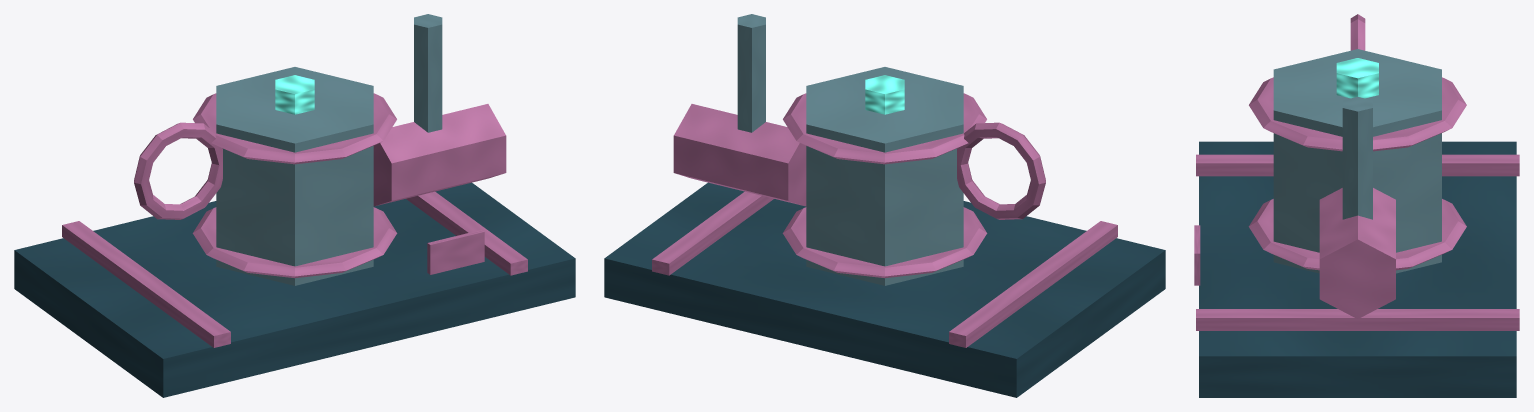
File: atlas100-s064-a02.lod1.glb
3 renders of one model, left to right at view 1: azimuth 30°, elevation 25°; view 2: azimuth 150°, elevation 25°; view 3: azimuth 270°, elevation 25°, orthographic. The views are drawn at different scales.
Visible parts, largest first — view 1: atlas100-s064-a02:part-000, atlas100-s064-a02:part-003, atlas100-s064-a02:part-007, atlas100-s064-a02:part-001, atlas100-s064-a02:part-004, atlas100-s064-a02:part-005, atlas100-s064-a02:part-009, atlas100-s064-a02:part-008, atlas100-s064-a02:part-002, atlas100-s064-a02:part-010, atlas100-s064-a02:part-006; view 2: atlas100-s064-a02:part-000, atlas100-s064-a02:part-003, atlas100-s064-a02:part-007, atlas100-s064-a02:part-001, atlas100-s064-a02:part-004, atlas100-s064-a02:part-005, atlas100-s064-a02:part-009, atlas100-s064-a02:part-008, atlas100-s064-a02:part-002, atlas100-s064-a02:part-006; view 3: atlas100-s064-a02:part-000, atlas100-s064-a02:part-003, atlas100-s064-a02:part-007, atlas100-s064-a02:part-002, atlas100-s064-a02:part-005, atlas100-s064-a02:part-008, atlas100-s064-a02:part-001, atlas100-s064-a02:part-004, atlas100-s064-a02:part-006, atlas100-s064-a02:part-009, atlas100-s064-a02:part-010.
Part boxes in pixels (left/top/right/bottom): atlas100-s064-a02:part-000: left=14, top=182, right=575, bottom=397; atlas100-s064-a02:part-003: left=216, top=67, right=373, bottom=285; atlas100-s064-a02:part-007: left=373, top=104, right=506, bottom=206; atlas100-s064-a02:part-001: left=62, top=221, right=230, bottom=347; atlas100-s064-a02:part-004: left=192, top=207, right=397, bottom=278; atlas100-s064-a02:part-005: left=193, top=93, right=396, bottom=164; atlas100-s064-a02:part-009: left=134, top=122, right=222, bottom=219; atlas100-s064-a02:part-008: left=414, top=14, right=442, bottom=132; atlas100-s064-a02:part-002: left=406, top=191, right=527, bottom=275; atlas100-s064-a02:part-010: left=427, top=229, right=484, bottom=274; atlas100-s064-a02:part-006: left=275, top=75, right=314, bottom=114; atlas100-s064-a02:part-000: left=604, top=182, right=1165, bottom=397; atlas100-s064-a02:part-003: left=806, top=67, right=963, bottom=285; atlas100-s064-a02:part-007: left=673, top=104, right=806, bottom=206; atlas100-s064-a02:part-001: left=949, top=221, right=1117, bottom=347; atlas100-s064-a02:part-004: left=782, top=207, right=987, bottom=278; atlas100-s064-a02:part-005: left=783, top=93, right=986, bottom=164; atlas100-s064-a02:part-009: left=957, top=122, right=1045, bottom=219; atlas100-s064-a02:part-008: left=737, top=14, right=765, bottom=132; atlas100-s064-a02:part-002: left=652, top=191, right=773, bottom=275; atlas100-s064-a02:part-006: left=865, top=75, right=904, bottom=114; atlas100-s064-a02:part-000: left=1199, top=141, right=1516, bottom=397; atlas100-s064-a02:part-003: left=1273, top=49, right=1441, bottom=273; atlas100-s064-a02:part-007: left=1319, top=188, right=1395, bottom=318; atlas100-s064-a02:part-002: left=1196, top=309, right=1519, bottom=330; atlas100-s064-a02:part-005: left=1249, top=77, right=1466, bottom=151; atlas100-s064-a02:part-008: left=1342, top=96, right=1372, bottom=219; atlas100-s064-a02:part-001: left=1196, top=154, right=1519, bottom=176; atlas100-s064-a02:part-004: left=1248, top=199, right=1466, bottom=270; atlas100-s064-a02:part-006: left=1336, top=58, right=1378, bottom=98; atlas100-s064-a02:part-009: left=1350, top=14, right=1365, bottom=50; atlas100-s064-a02:part-010: left=1194, top=225, right=1200, bottom=285.
Size of the model in its own units: 2.88 by 1.6 by 1.85.
4 materials, 4 textured.
